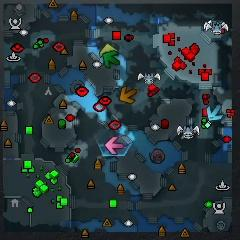x1: (105, 137, 123, 155)
x2: (99, 43, 117, 56)
x3: (207, 105, 223, 121)
x4: (103, 51, 120, 68)
x5: (119, 86, 137, 103)
